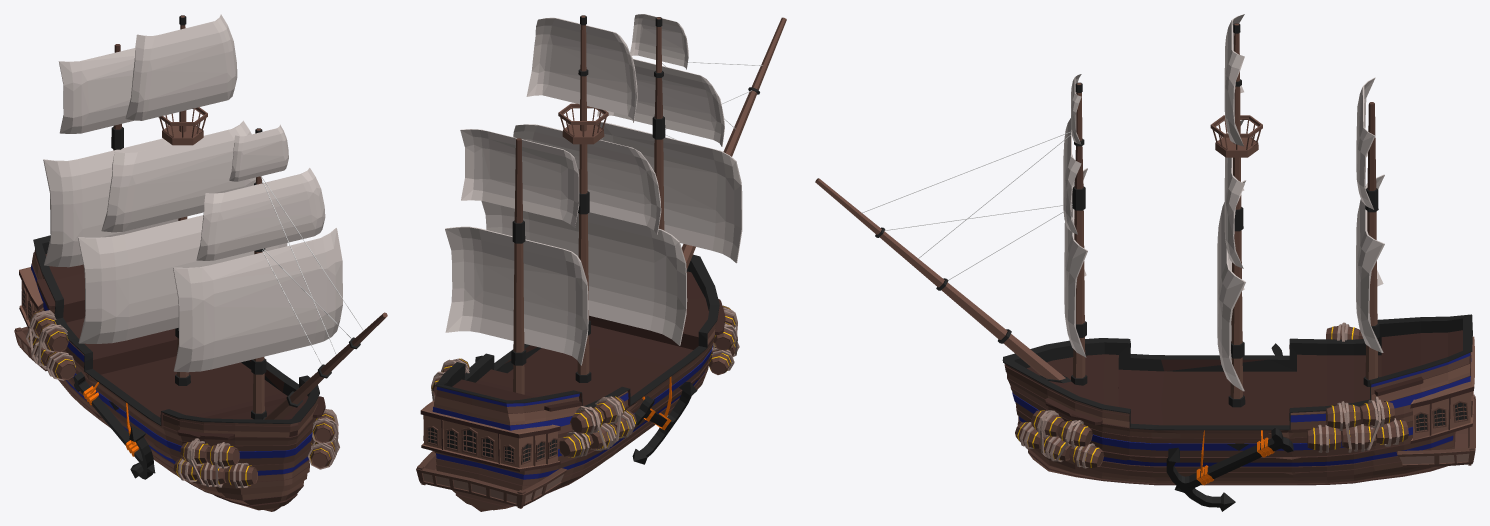
The model's file is MediumEnemyBoat.fbx.
The picture shows the model from 3 angles, left to right: view 1: azimuth 30°, elevation 25°; view 2: azimuth 150°, elevation 25°; view 3: azimuth 270°, elevation 25°; orthographic projection. The views are drawn at different scales.
Visible parts, largest first — view 1: Velas, Boat, Barrel.001, Rope.001, Anchor, Stick.001, Escote, Barrel, Rope, Stick, Windows holder, Stick.003 (+1 smaller); view 2: Velas, Boat, Windows holder, Stick.001, Terraza, Stick.002, Barrel, Windows, Stick, Rope, Anchor, Escote (+2 smaller); view 3: Boat, Velas, Stick.001, Escote, Barrel, Anchor, Stick, Barrel.001, Windows holder, Stick.002, Terraza, Rope (+3 smaller).
Part boxes in pixels (<box>): Velas: <box>43,14,342,372</box>; Boat: <box>31,235,325,511</box>; Barrel.001: <box>173,412,335,486</box>; Rope.001: <box>178,409,339,488</box>; Anchor: <box>73,372,155,479</box>; Stick.001: <box>158,15,207,385</box>; Escote: <box>262,312,387,419</box>; Barrel: <box>29,310,76,379</box>; Rope: <box>25,310,75,380</box>; Stick: <box>251,128,266,419</box>; Windows holder: <box>19,267,43,328</box>; Stick.003: <box>260,176,363,364</box>; Velas: <box>445,14,742,365</box>; Boat: <box>432,254,725,511</box>; Windows holder: <box>420,400,560,471</box>; Stick.001: <box>558,15,608,382</box>; Terraza: <box>416,451,566,508</box>; Stick.002: <box>511,138,526,394</box>; Barrel: <box>431,358,636,457</box>; Windows: <box>423,426,558,464</box>; Stick: <box>652,17,665,230</box>; Rope: <box>431,358,634,457</box>; Anchor: <box>475,355,697,464</box>; Escote: <box>682,17,786,269</box>; Boat: <box>1002,314,1472,485</box>; Velas: <box>1063,14,1384,391</box>; Stick.001: <box>1210,23,1262,407</box>; Escote: <box>815,178,1071,383</box>; Barrel: <box>1307,326,1408,450</box>; Anchor: <box>1166,343,1293,511</box>; Stick: <box>1071,82,1087,385</box>; Barrel.001: <box>1015,410,1104,467</box>; Windows holder: <box>1410,336,1474,443</box>; Stick.002: <box>1363,102,1379,386</box>; Terraza: <box>1396,394,1475,467</box>; Rope: <box>1318,322,1399,452</box>.
Bounding box in the file's own units: 1125 × 2367 × 3083.
